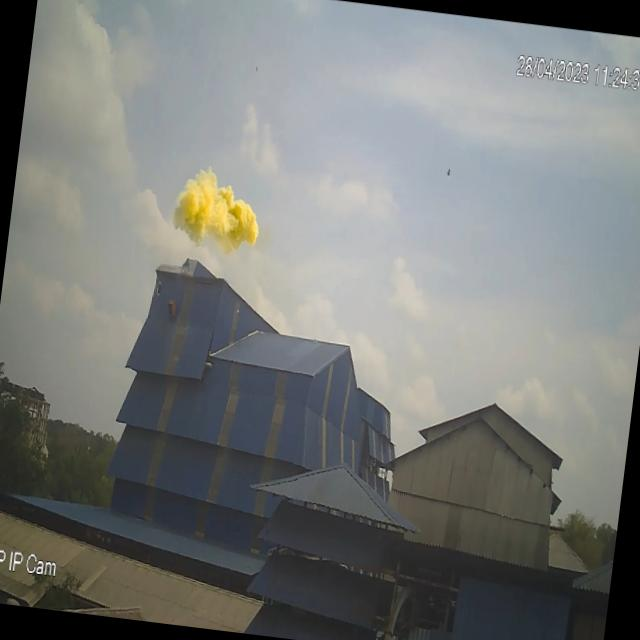yellow smoke: (167, 160, 266, 258)
